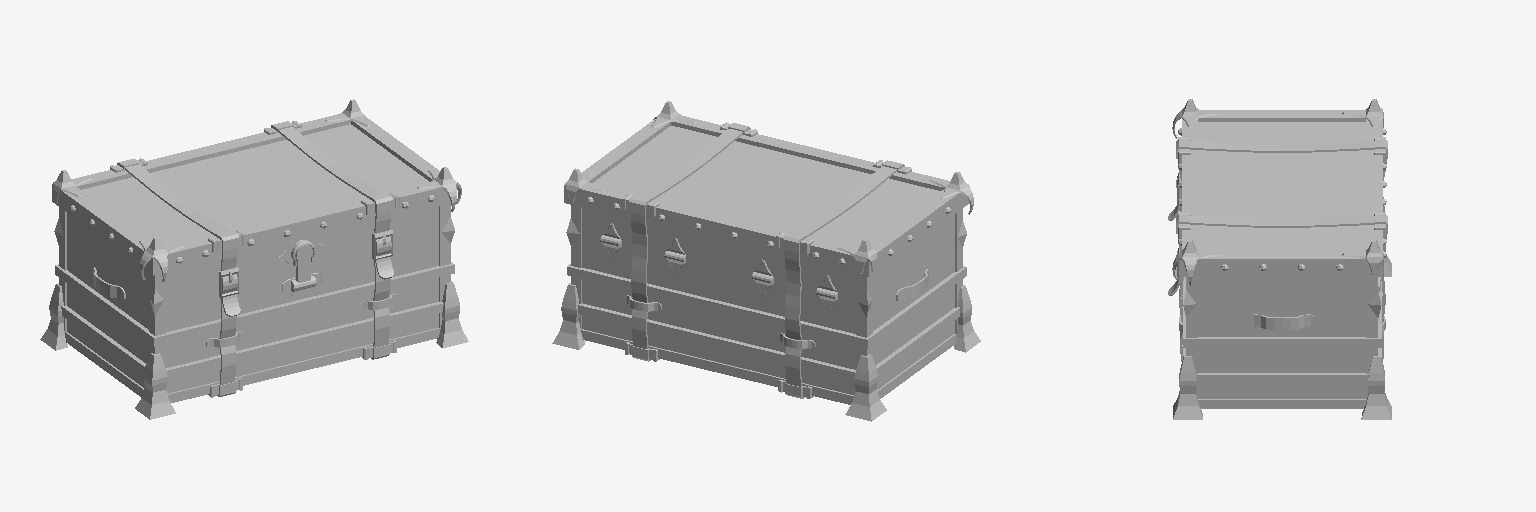
File: kiste.obj
3 views of the same model, side by side, from view 1: azimuth 30°, elevation 25°; view 2: azimuth 150°, elevation 25°; view 3: azimuth 270°, elevation 25° (orthographic).
Parts seen in each view (by area): view 1: pCube53; view 2: pCube53; view 3: pCube53.
Boxes of the visible parts, <box> form: pCube53: <box>40,99,468,419</box>; pCube53: <box>552,101,980,421</box>; pCube53: <box>1168,99,1391,419</box>.
Size of the model in its own units: 10.57 by 5.41 by 6.41.